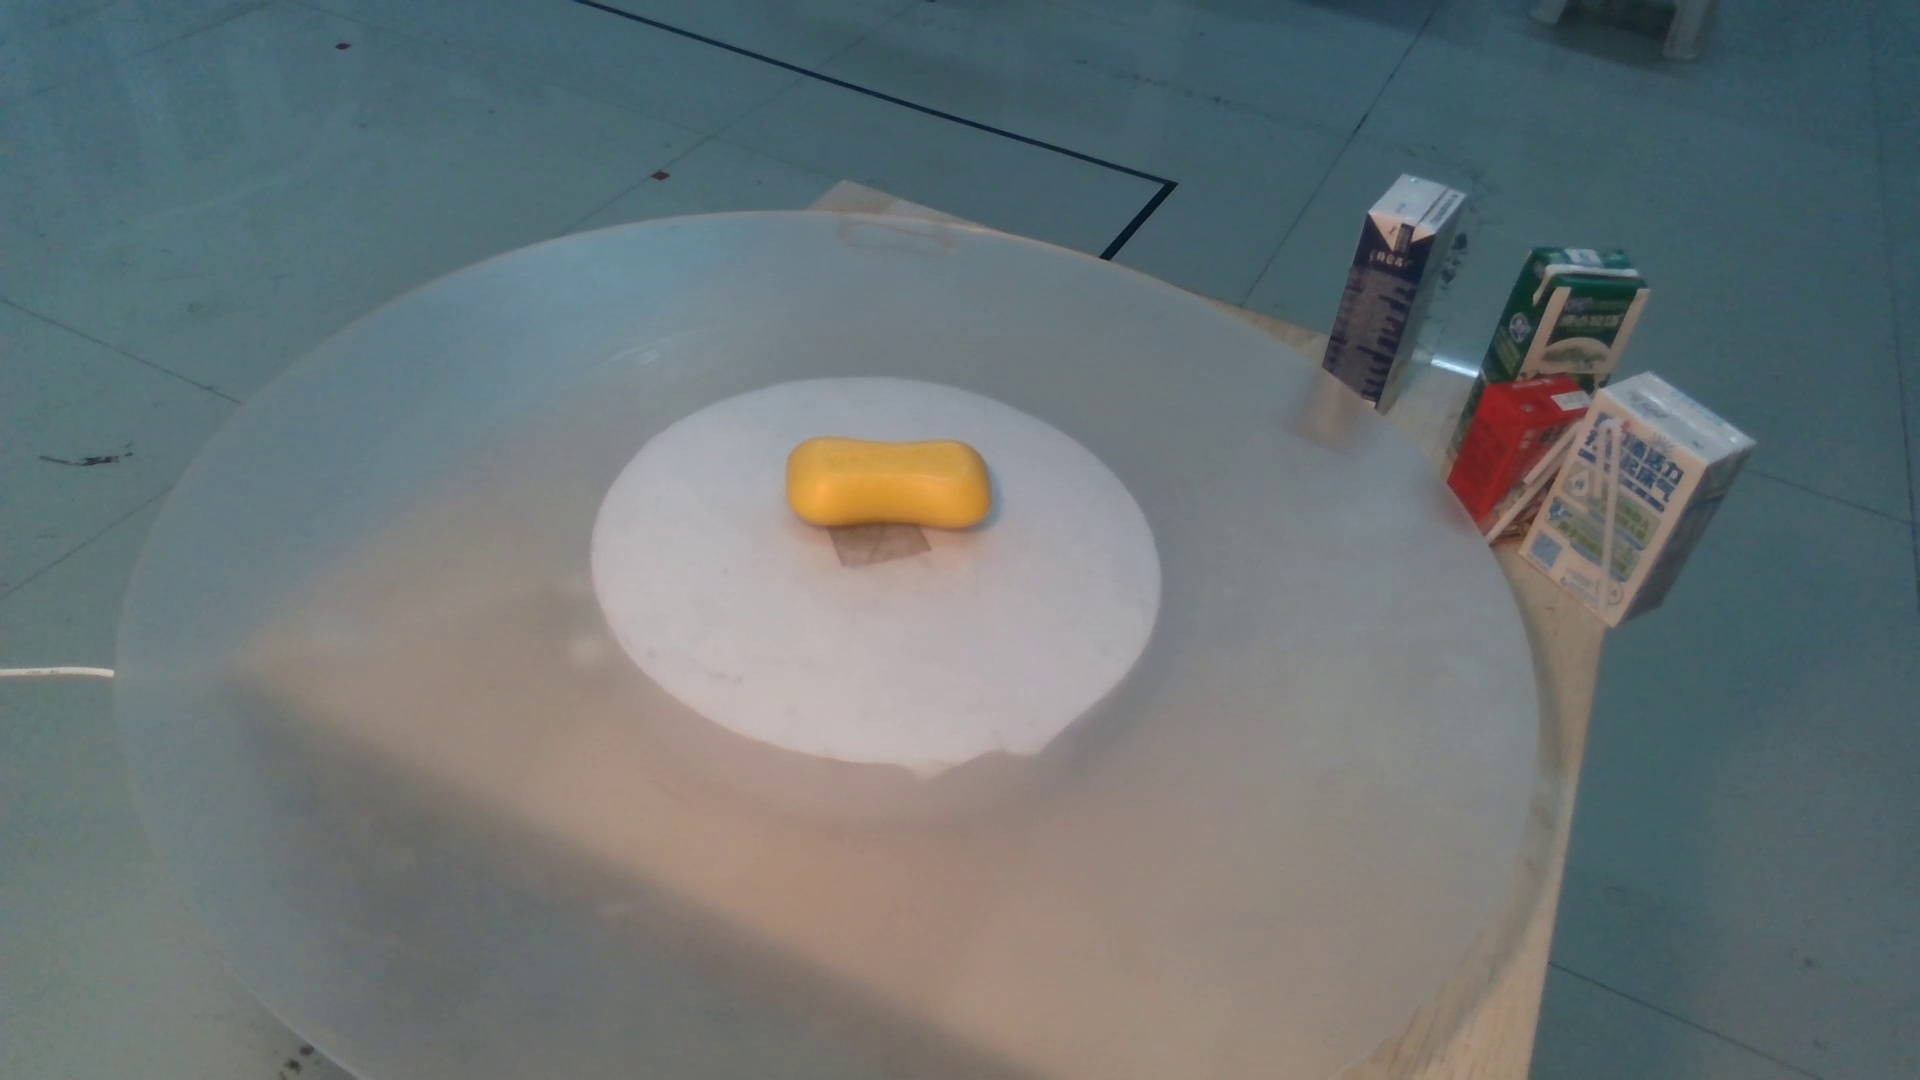CA003_1: (765, 417, 1033, 572)
